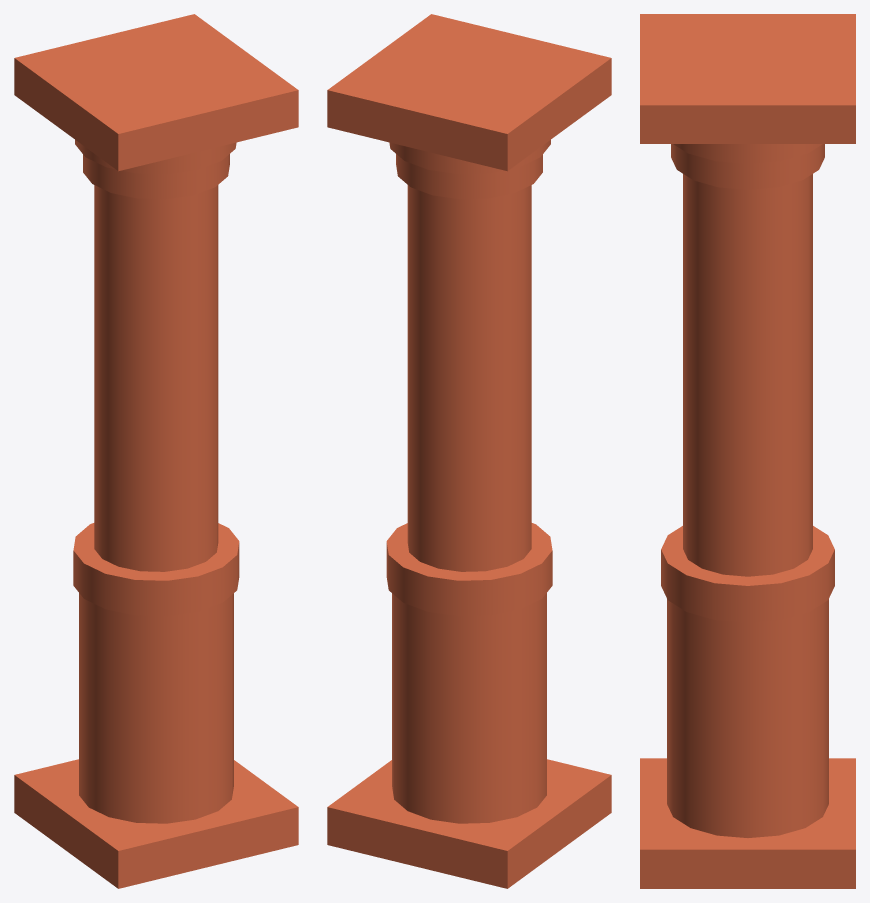
File: longPillar.fbx
3 views of the same model, side by side, from view 1: azimuth 30°, elevation 25°; view 2: azimuth 150°, elevation 25°; view 3: azimuth 270°, elevation 25° (orthographic). The views are drawn at different scales.
Parts seen in each view (by area): view 1: LongPillar; view 2: LongPillar; view 3: LongPillar.
Part boxes in pixels (box(x1,y1,x2,y2)): LongPillar: box(14, 14, 298, 888); LongPillar: box(327, 14, 611, 888); LongPillar: box(640, 14, 855, 888).
Size of the model in its own units: 200 by 800 by 200.
